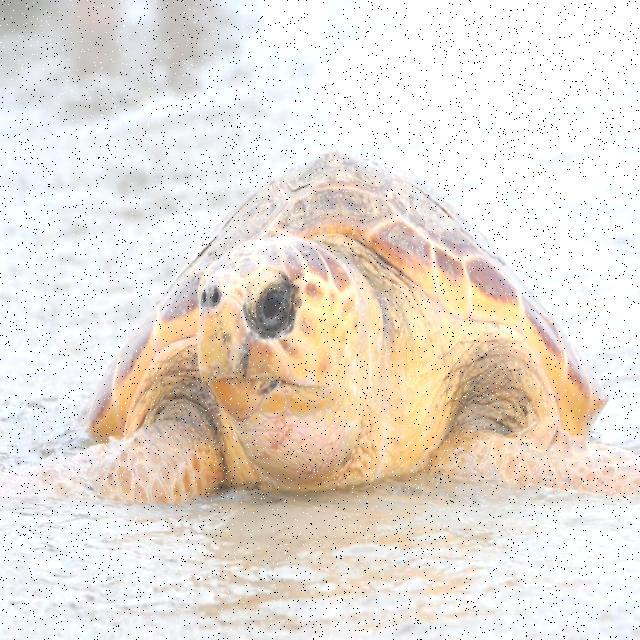tortoise: (62, 145, 640, 502)
